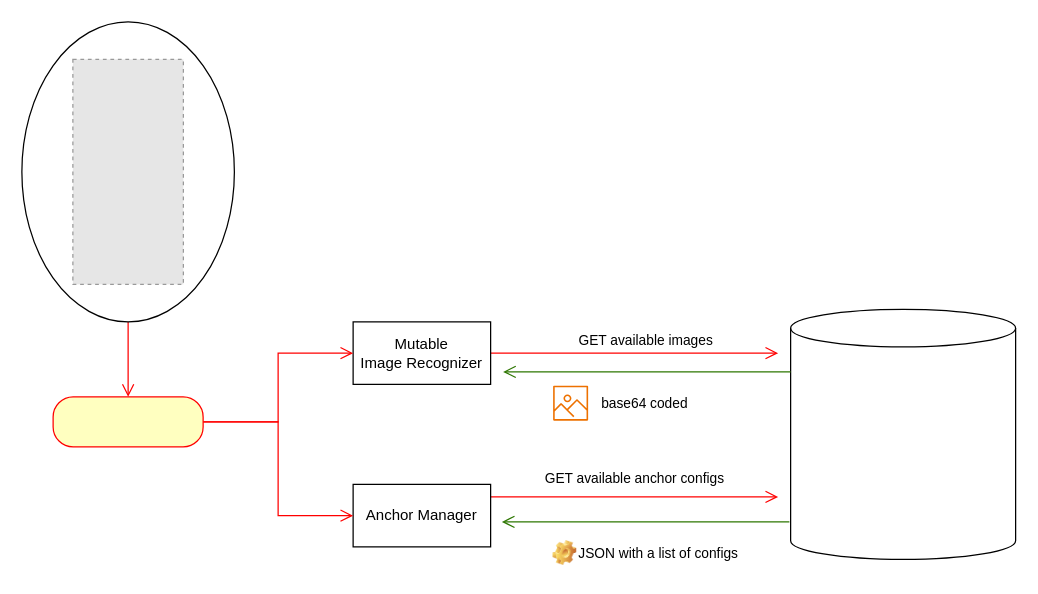
Some shapes in this 1038 by 594 pixel diagram are drawn without their labels. Grey dashed boxes stand in for pictures. Each missing label, with the centre of its shape:
"Connection enstablished" belongs at point 127,421.
"Data server" belongs at point 902,433.
